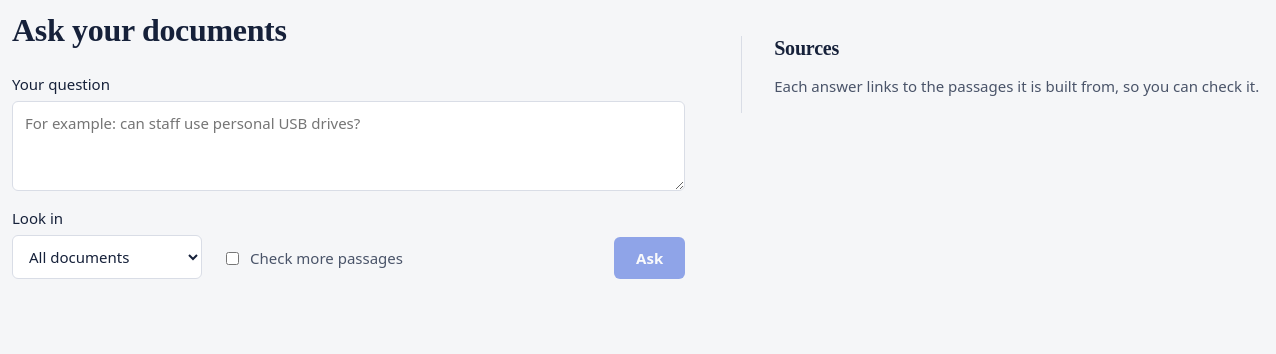
Scenario: Ask › limits the question to the chosen document and checks more passages when asked
Select "audit.docx" in the dropdown labelled "Look in" at (107, 257), box [12,235,202,279]
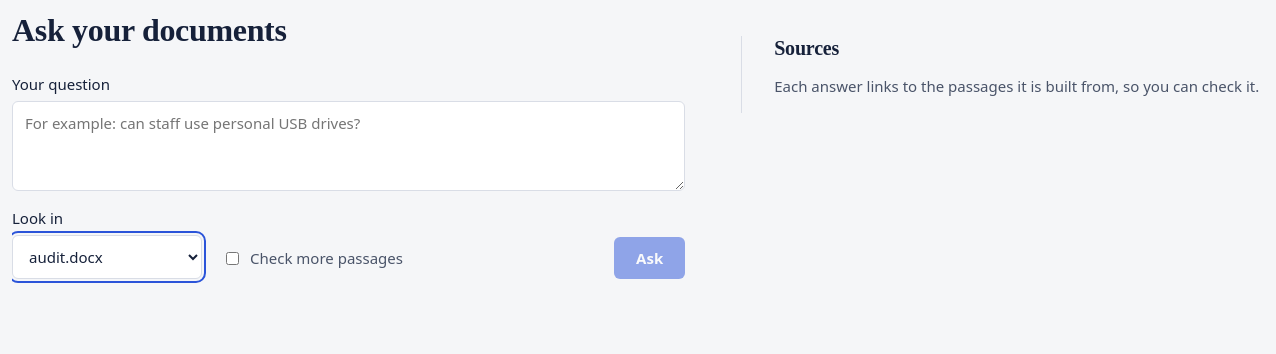
Click the checkbox labelled "Check more passages" at (232, 258), box [226,252,239,264]
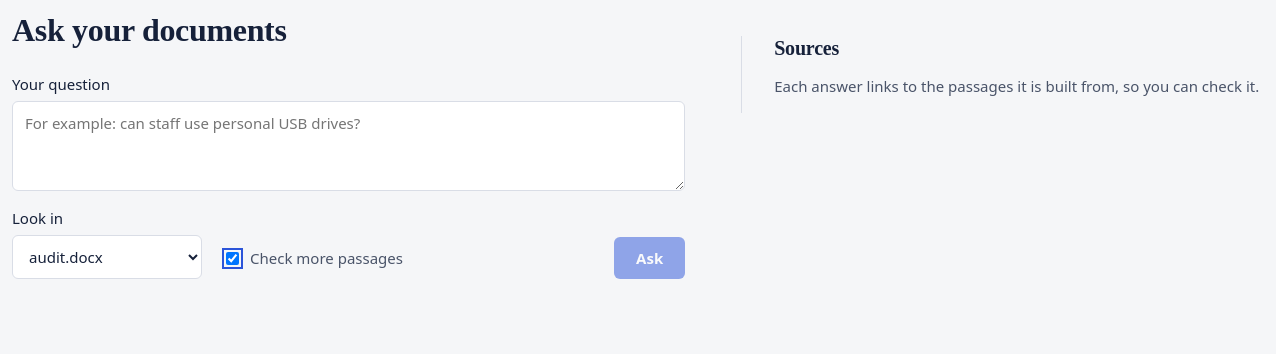
Type "Which controls failed?" into the text box labelled "Your question" at (349, 146), box [12,101,685,191]
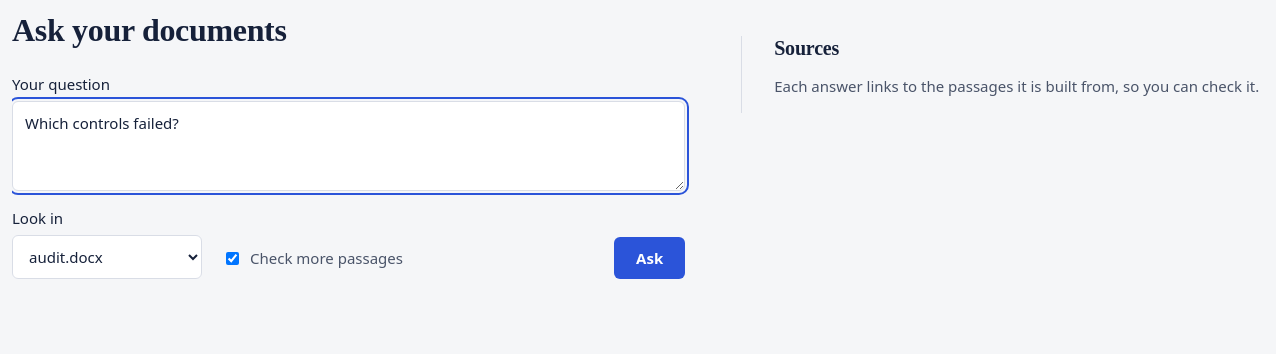
Click the button "Ask" at (650, 258), box [614,237,685,279]
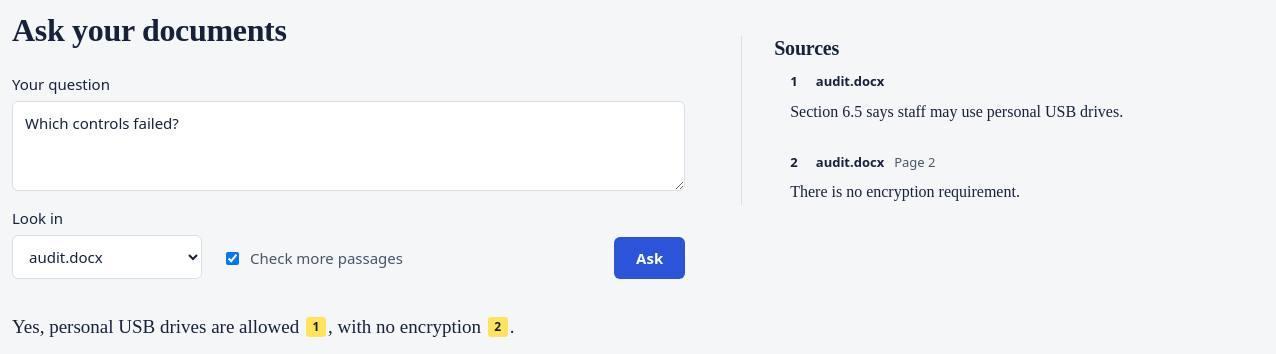
Expected: the text "Yes, personal USB drives are allowed" is shown, [12,316,304,337]
